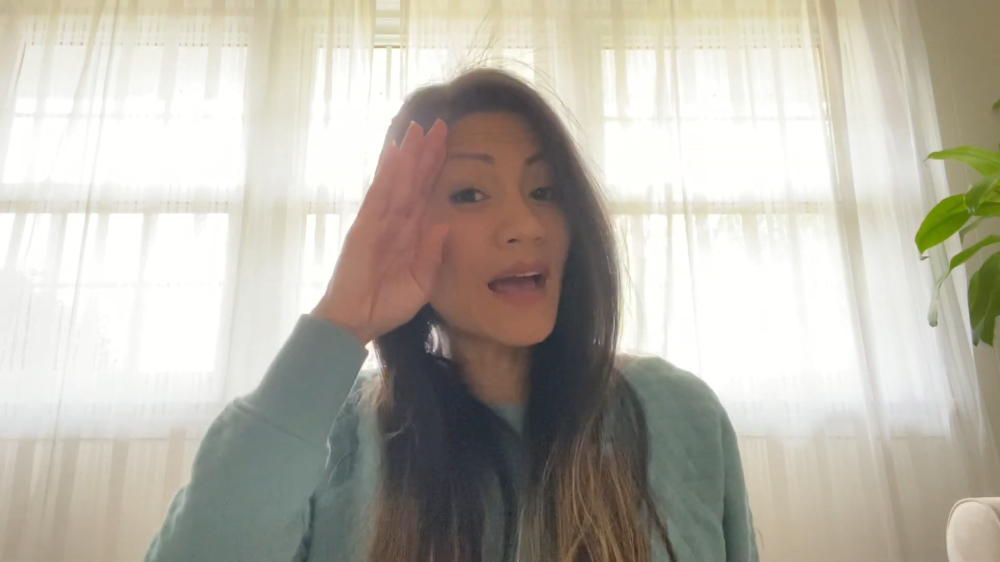hello: (326, 119, 453, 337)
